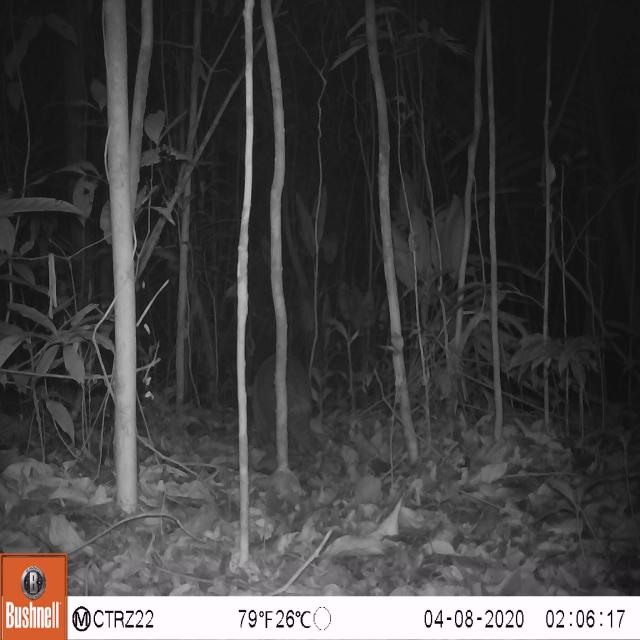Armadillo: (235, 339, 338, 477)
